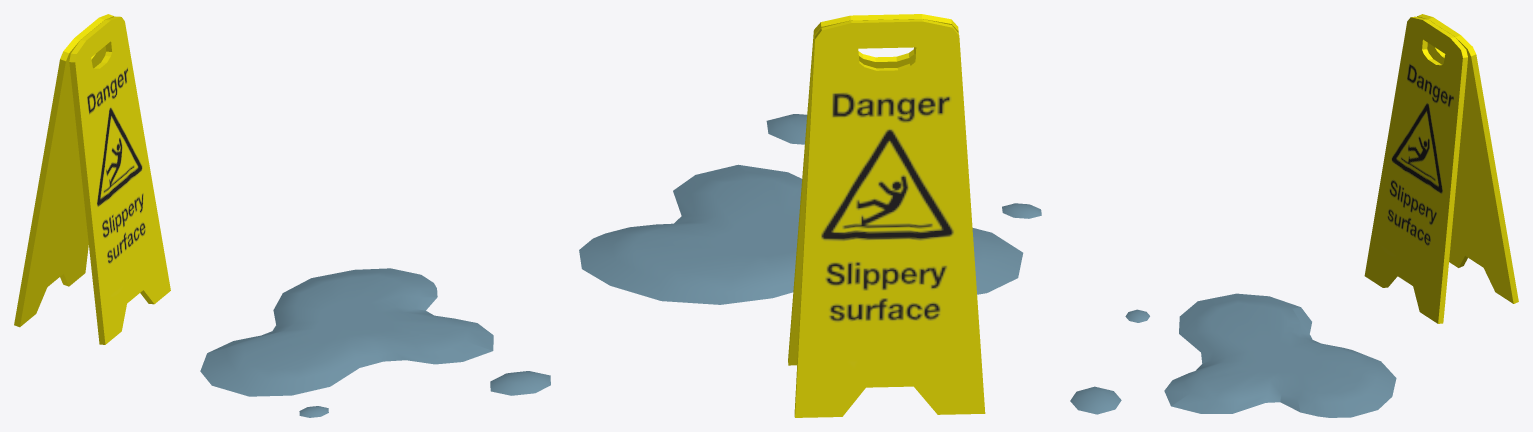
File: Obstale_Puddle.fbx
The picture shows the model from 3 angles, left to right: view 1: azimuth 30°, elevation 25°; view 2: azimuth 150°, elevation 25°; view 3: azimuth 270°, elevation 25°; orthographic projection. The views are drawn at different scales.
Parts seen in each view (by area): view 1: Puddle; view 2: Puddle; view 3: Puddle.
Boxes of the visible parts, x1,y1,x2,y2 form: Puddle: (14,14,550,417); Puddle: (579,14,1041,417); Puddle: (1070,14,1518,417).
Bounding box in the file's own units: 68.95 × 51.42 × 79.75.
